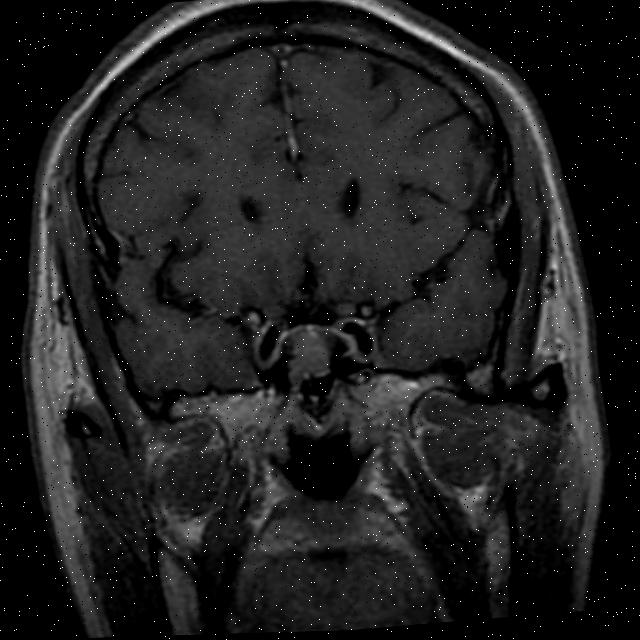Pituitary: (280, 321, 334, 394)
